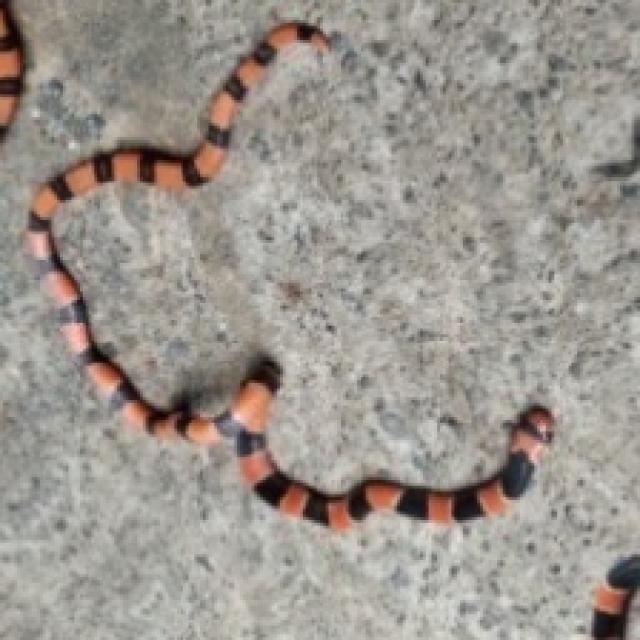barredcoral snake: (23, 23, 551, 529), (592, 556, 640, 640), (1, 0, 25, 138)
